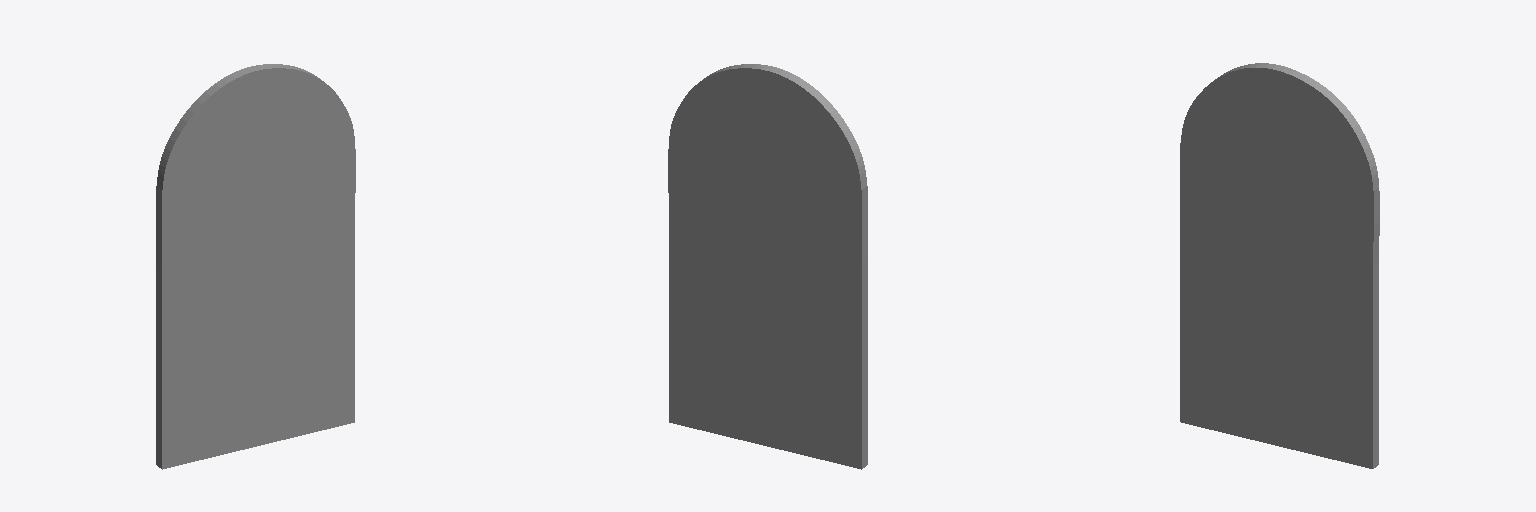
The model's file is door.obj.
3 views of the same model, side by side, from view 1: azimuth 30°, elevation 25°; view 2: azimuth 150°, elevation 25°; view 3: azimuth 330°, elevation 25° (orthographic).
Parts seen in each view (by area): view 1: Extrude_NURBS_1; view 2: Extrude_NURBS_1; view 3: Extrude_NURBS_1.
Part boxes in pixels (x1,y1,x2,y2): Extrude_NURBS_1: (156, 64, 355, 469); Extrude_NURBS_1: (668, 64, 867, 469); Extrude_NURBS_1: (1180, 63, 1379, 468).
Bounding box in the file's own units: 5.78 × 10.71 × 0.308.